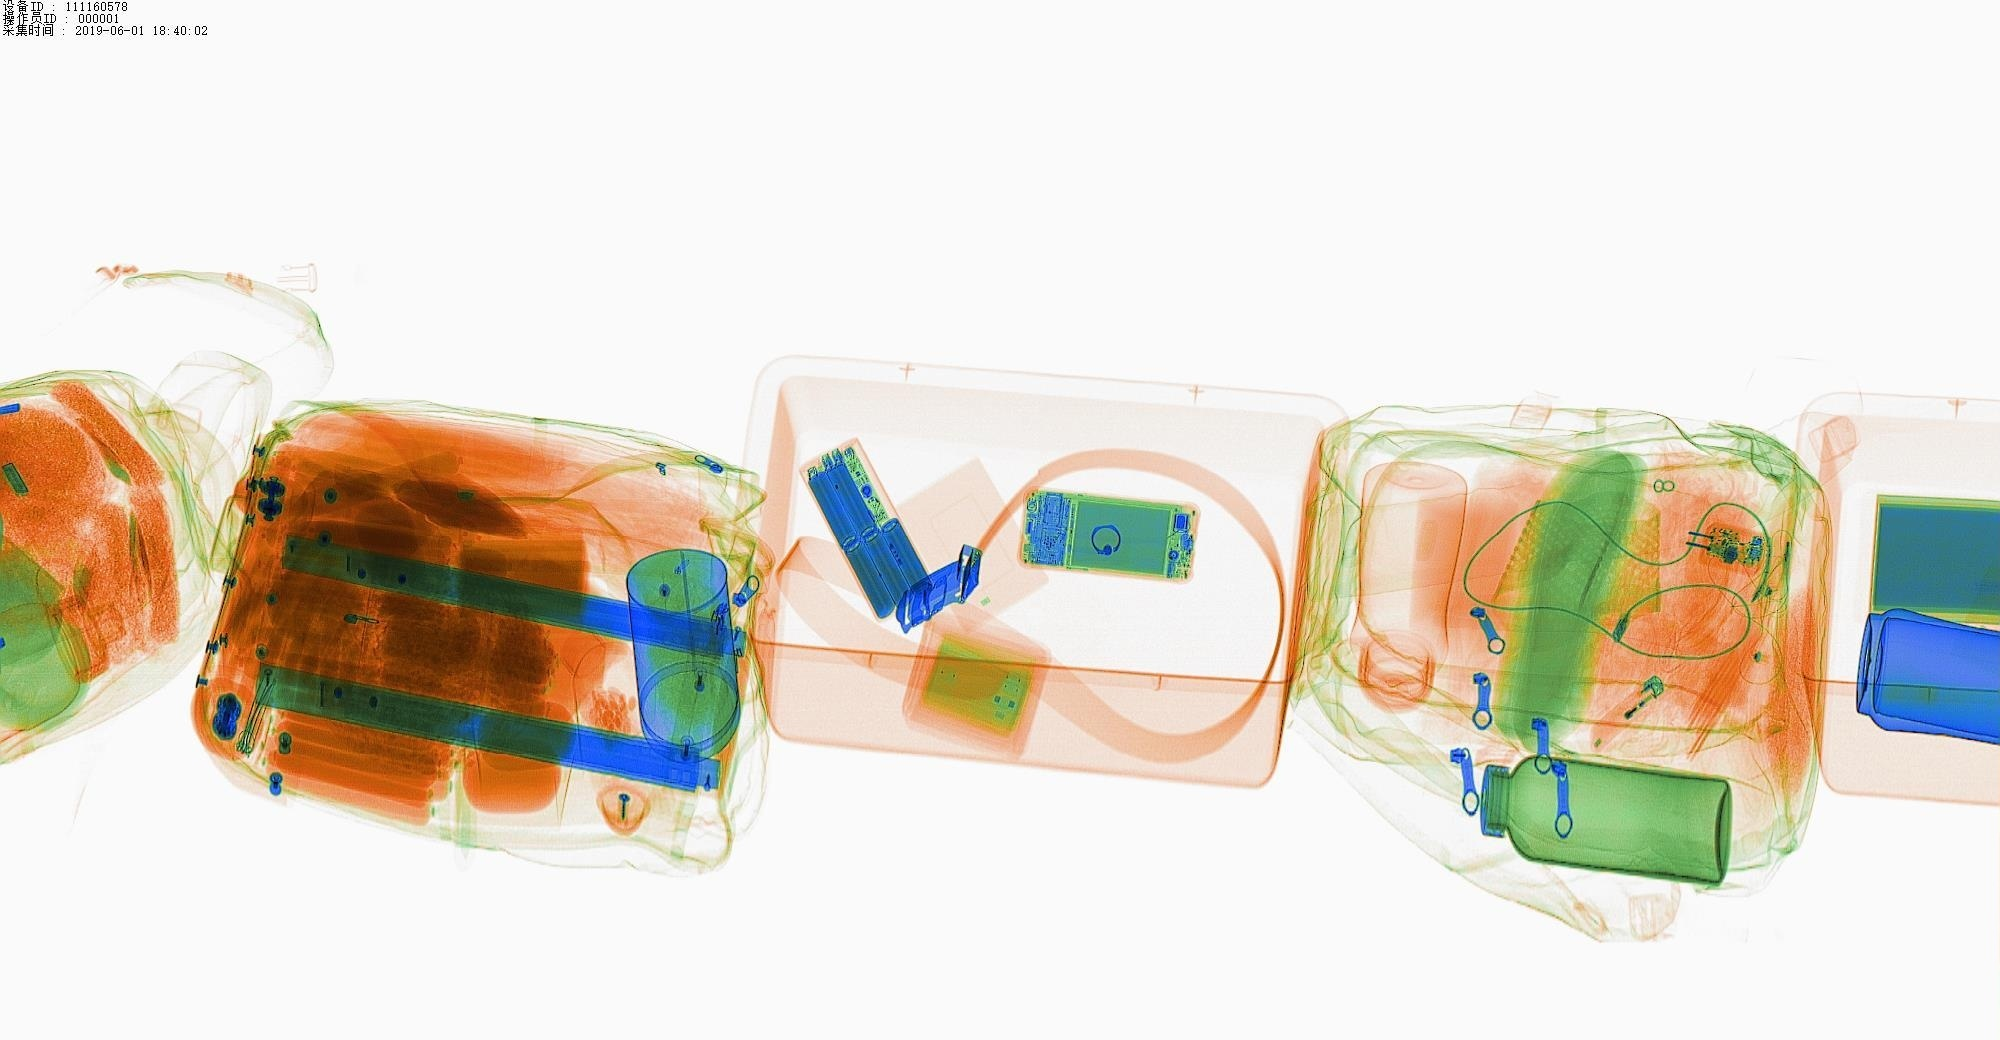NonmetallicFire: (1590, 654, 1675, 759)
